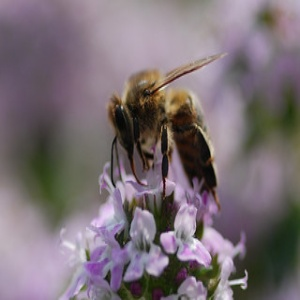bee: (106, 66, 231, 209)
